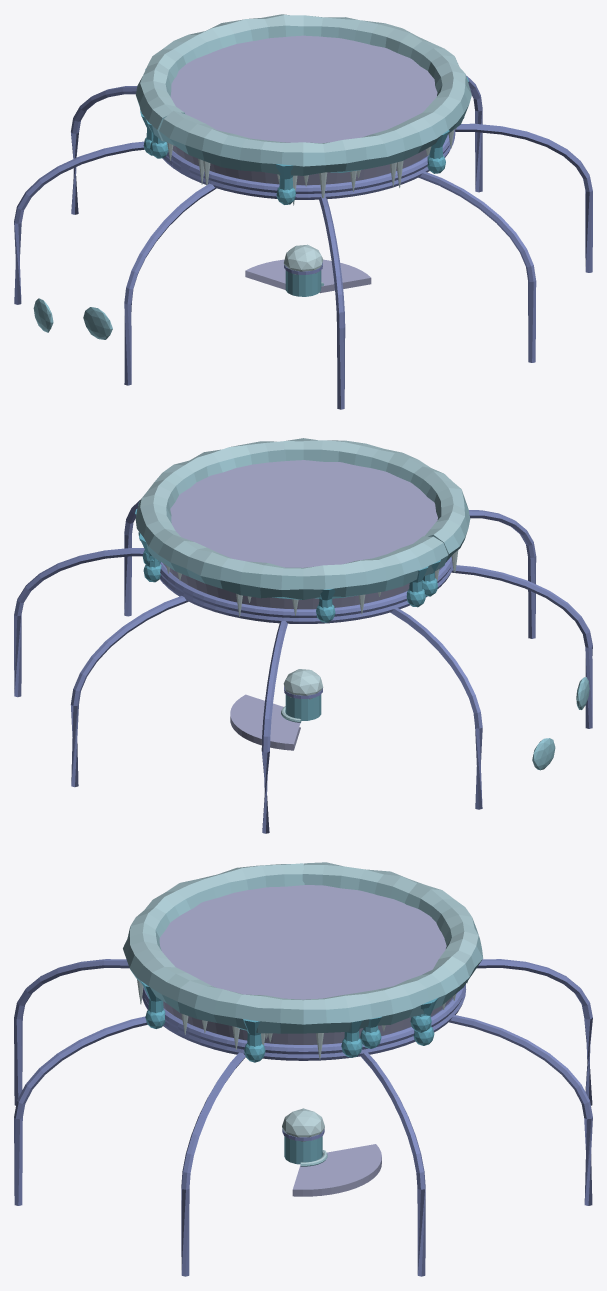
Rendered from goo_jar_trim_3_top@crystal.fbx.
3 views of the same model, one above another, from view 1: azimuth 30°, elevation 25°; view 2: azimuth 150°, elevation 25°; view 3: azimuth 270°, elevation 25° (orthographic). The views are drawn at different scales.
Parts seen in each view (by area): view 1: goo_jar_trim_3_top; view 2: goo_jar_trim_3_top; view 3: goo_jar_trim_3_top.
Boxes of the visible parts, left/top/right/bottom form: goo_jar_trim_3_top: left=14, top=14, right=592, bottom=409; goo_jar_trim_3_top: left=14, top=438, right=592, bottom=833; goo_jar_trim_3_top: left=14, top=862, right=592, bottom=1276.
Bounding box in the file's own units: 47.31 × 20.21 × 45.37.
